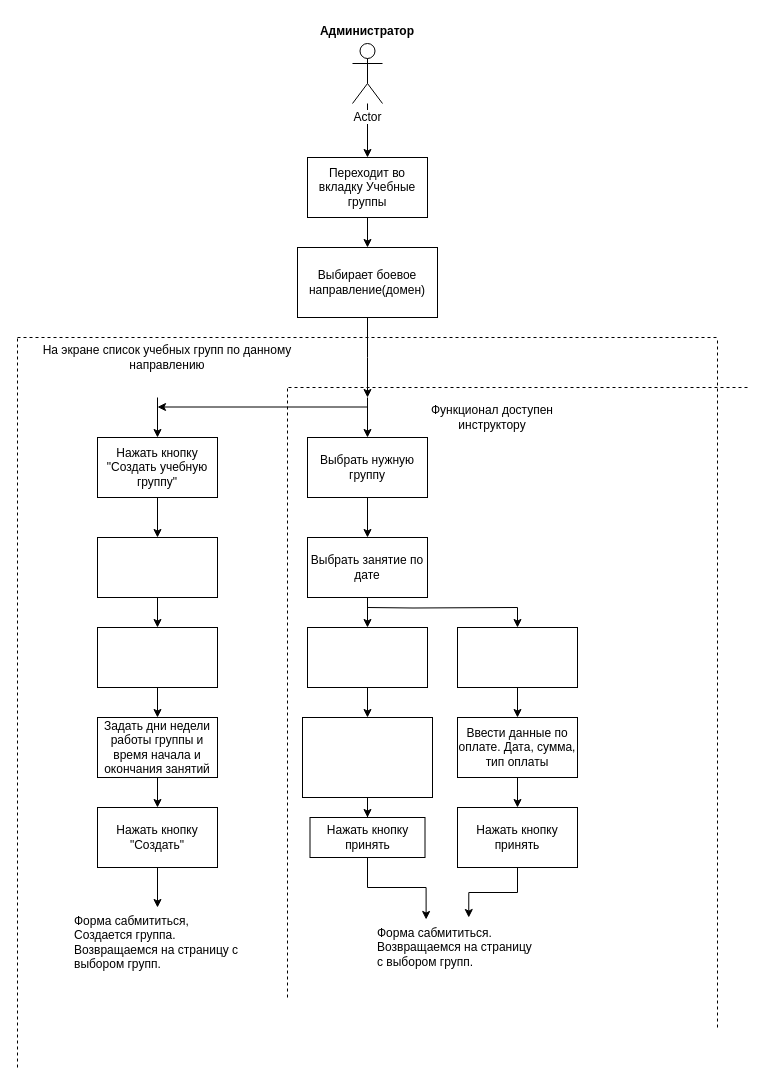
Some shapes in this 766 by 1086 pixel diagram are drawn without their labels. Each missing label, with the centre of its shape:
Включить режим учета посещаемости: the point at 367,657
Выбрать инструктора: the point at 157,567
Добавить учеников: the point at 157,657
Поставить соответствующую галочку напротив присутствующего ученика: the point at 367,757
Режим учета оплаты: the point at 517,657
